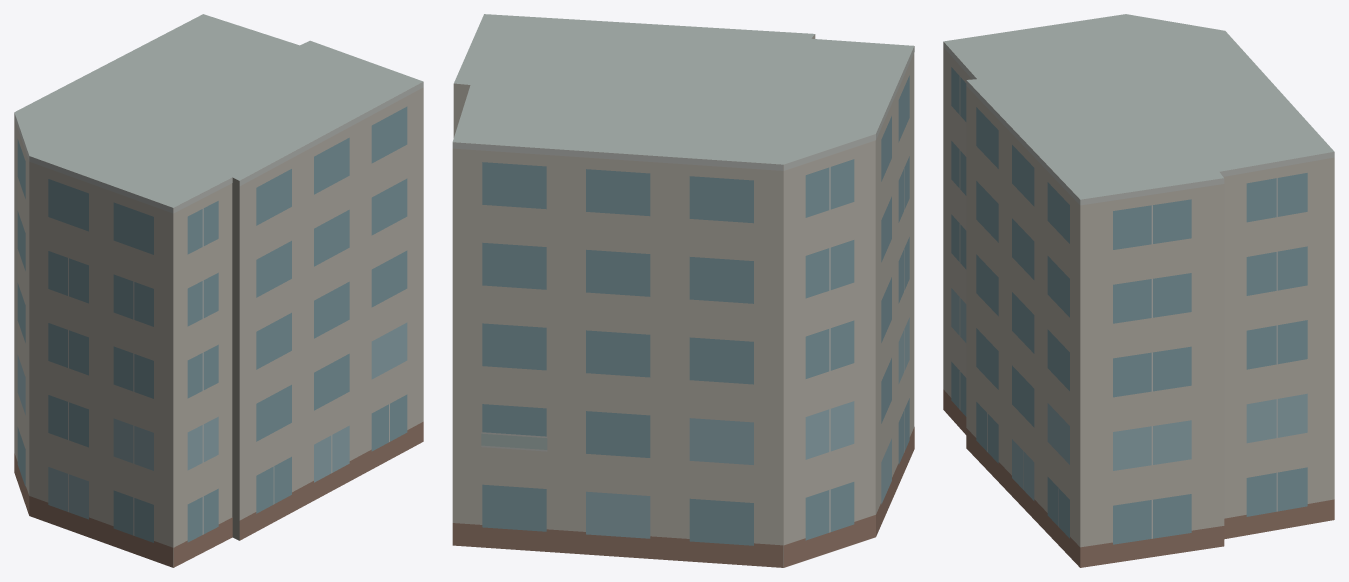
File: survey-upis-32857764.glb
3 renders of one model, left to right at view 1: azimuth 30°, elevation 25°; view 2: azimuth 150°, elevation 25°; view 3: azimuth 270°, elevation 25°, orthographic. The views are drawn at different scales.
Parts seen in each view (by area): view 1: survey-upis-32857764.tmp; view 2: survey-upis-32857764.tmp; view 3: survey-upis-32857764.tmp.
Part boxes in pixels (x1=…): survey-upis-32857764.tmp: x1=14, y1=14, x2=423, y2=567; survey-upis-32857764.tmp: x1=452, y1=14, x2=914, y2=567; survey-upis-32857764.tmp: x1=943, y1=14, x2=1334, y2=567.
Size of the model in its own units: 16.77 by 15.5 by 14.94.
